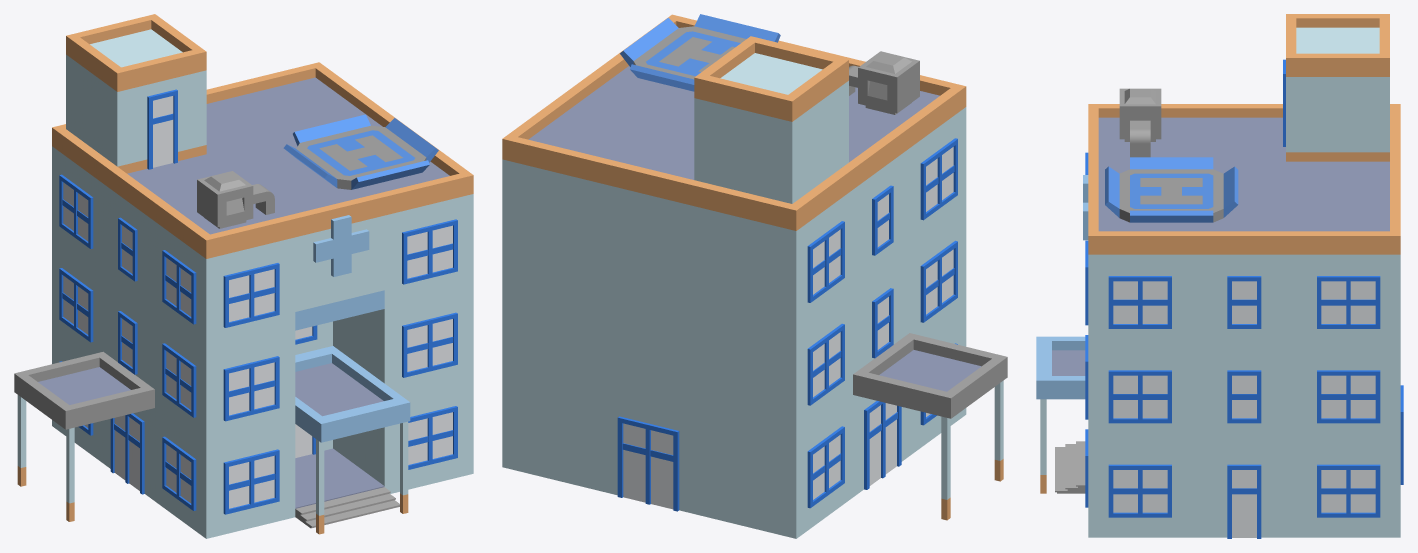
File: M1_Hospital.fbx
The picture shows the model from 3 angles, left to right: view 1: azimuth 30°, elevation 25°; view 2: azimuth 150°, elevation 25°; view 3: azimuth 270°, elevation 25°; orthographic projection. The views are drawn at different scales.
Visible parts, largest first — view 1: block (×5), window_wide (×11), roof_flat (×3), roof_flatCorner (×4), roof_flatEdge (×4), pad_helicopter, roof_flatCenter (×2), columns_small (×2), detail_ventSmall, door_wide, door, window (×2) (+2 smaller); view 2: block (×4), roof_flat (×2), roof_flatCorner (×3), roof_flatEdge (×3), window_wide (×5), door_wide (×2), pad_helicopter, detail_ventSmall, window (×2), columns_small, roof_flatCenter; view 3: block (×2), window_wide (×6), roof_flatEdge (×4), roof_flatCorner (×4), roof_flat (×2), pad_helicopter, window (×2), roof_flatCenter, detail_ventSmall, door, stairs_center, columns_small.
Boxes of the visible parts, bbox=[...] form: block (×5): bbox=[52, 54, 473, 538]; window_wide (×11): bbox=[59, 174, 457, 514]; roof_flat (×3): bbox=[14, 14, 410, 442]; roof_flatCorner (×4): bbox=[52, 62, 473, 258]; roof_flatEdge (×4): bbox=[103, 84, 421, 237]; pad_helicopter: bbox=[283, 114, 438, 189]; roof_flatCenter (×2): bbox=[198, 131, 384, 508]; columns_small (×2): bbox=[17, 395, 408, 534]; detail_ventSmall: bbox=[197, 171, 274, 228]; door_wide: bbox=[110, 413, 144, 494]; door: bbox=[147, 89, 177, 169]; window (×2): bbox=[118, 217, 137, 374]; block (×4): bbox=[502, 81, 966, 538]; roof_flat (×2): bbox=[694, 36, 1007, 418]; roof_flatCorner (×3): bbox=[502, 75, 966, 230]; roof_flatEdge (×3): bbox=[559, 56, 909, 206]; window_wide (×5): bbox=[807, 138, 957, 508]; door_wide (×2): bbox=[617, 401, 901, 511]; pad_helicopter: bbox=[620, 14, 780, 91]; detail_ventSmall: bbox=[849, 51, 919, 114]; window (×2): bbox=[872, 185, 893, 358]; columns_small: bbox=[941, 380, 1003, 520]; roof_flatCenter: bbox=[657, 104, 694, 140]; block (×2): bbox=[1088, 77, 1400, 537]; window_wide (×6): bbox=[1108, 276, 1380, 517]; roof_flatEdge (×4): bbox=[1088, 104, 1400, 254]; roof_flatCorner (×4): bbox=[1088, 104, 1400, 254]; roof_flat (×2): bbox=[1036, 14, 1389, 399]; pad_helicopter: bbox=[1105, 157, 1238, 222]; window (×2): bbox=[1227, 276, 1261, 423]; roof_flatCenter: bbox=[1213, 157, 1296, 201]; detail_ventSmall: bbox=[1119, 88, 1161, 157]; door: bbox=[1227, 464, 1261, 538]; stairs_center: bbox=[1055, 441, 1085, 493]; columns_small: bbox=[1040, 399, 1046, 493].
Size of the model in its own units: 40.3 by 42 by 35.3.
